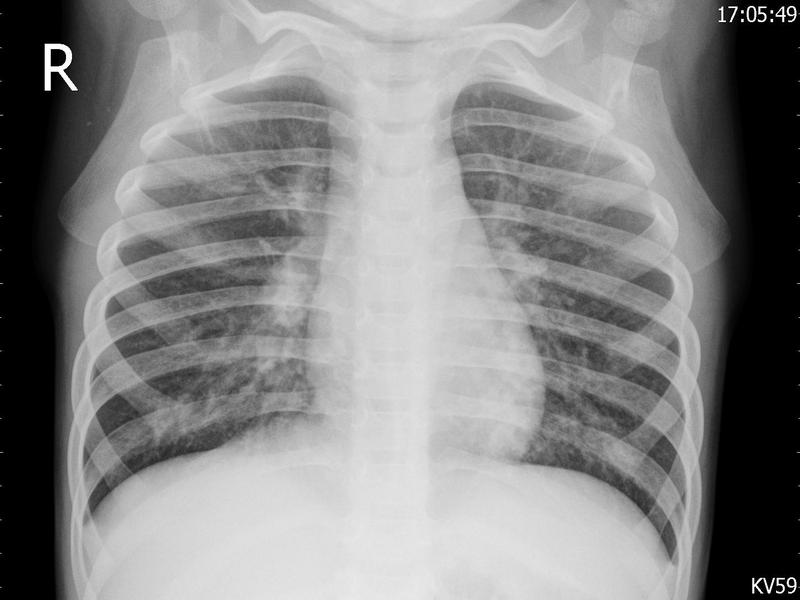PNEUMONIA: (212, 127, 314, 413), (492, 146, 625, 305), (520, 312, 613, 475), (105, 354, 211, 447)
